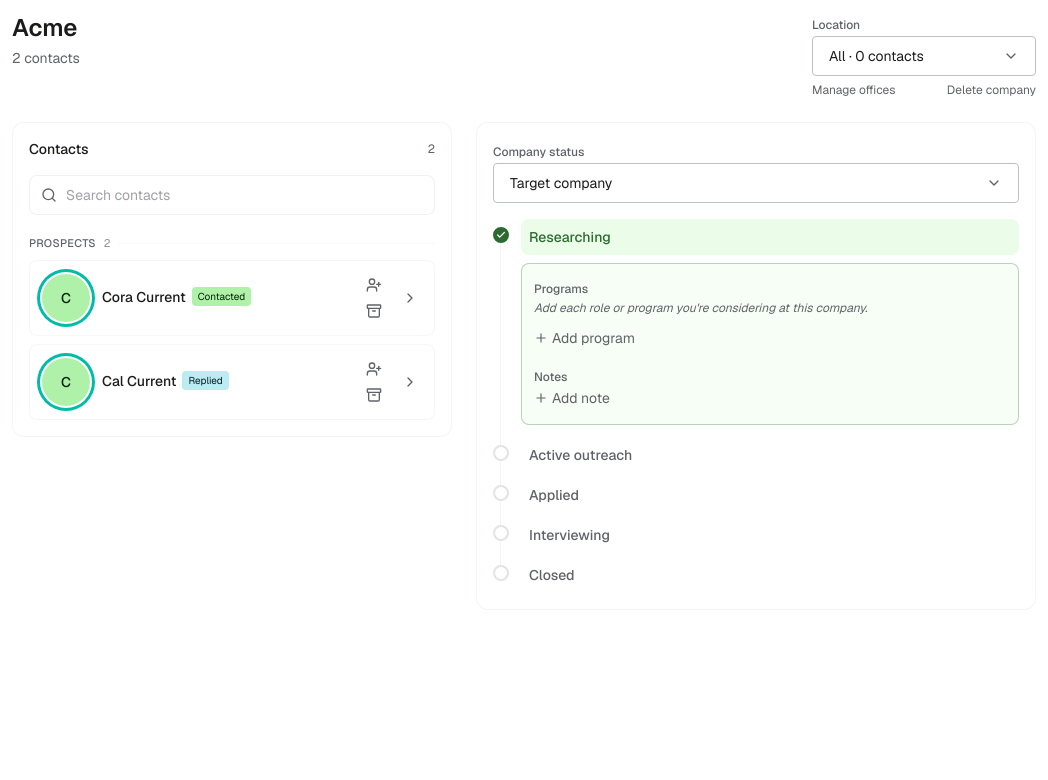
Test: Active outreach record: current employees only › keeps the record intact while the roster search narrows the list
Type "Cora" into the search field with placeholder "Search contacts". click: (232, 195)
box: [29,175,435,215]
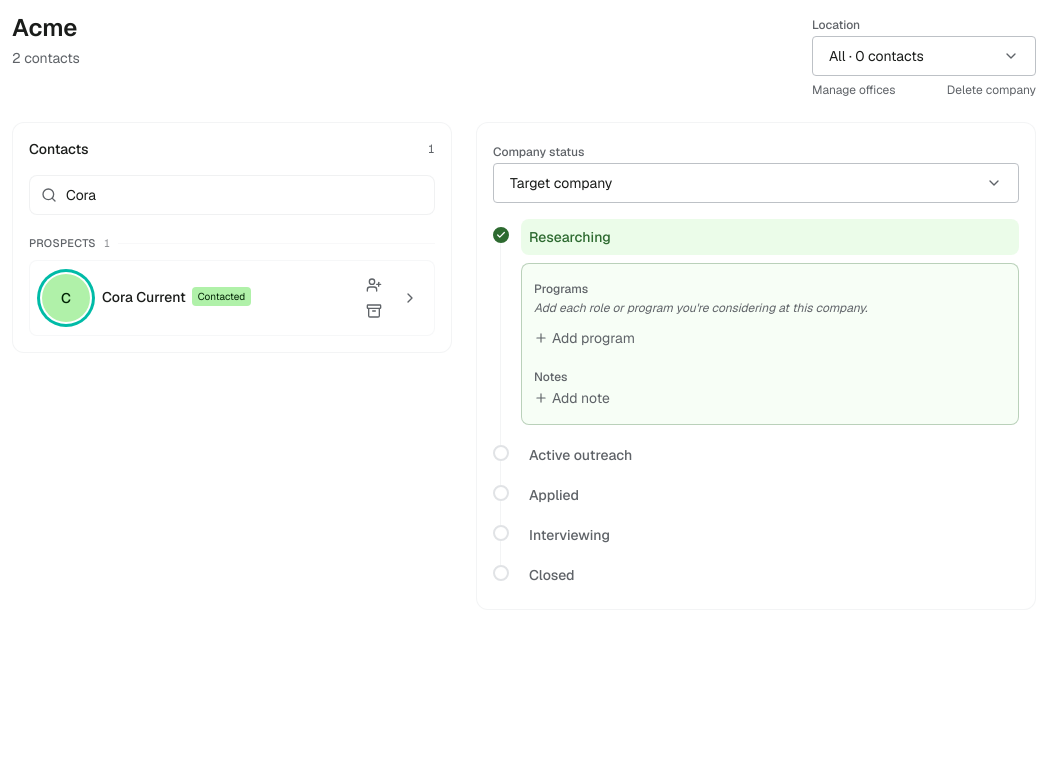
Check: the text "Cal Current" is gone
